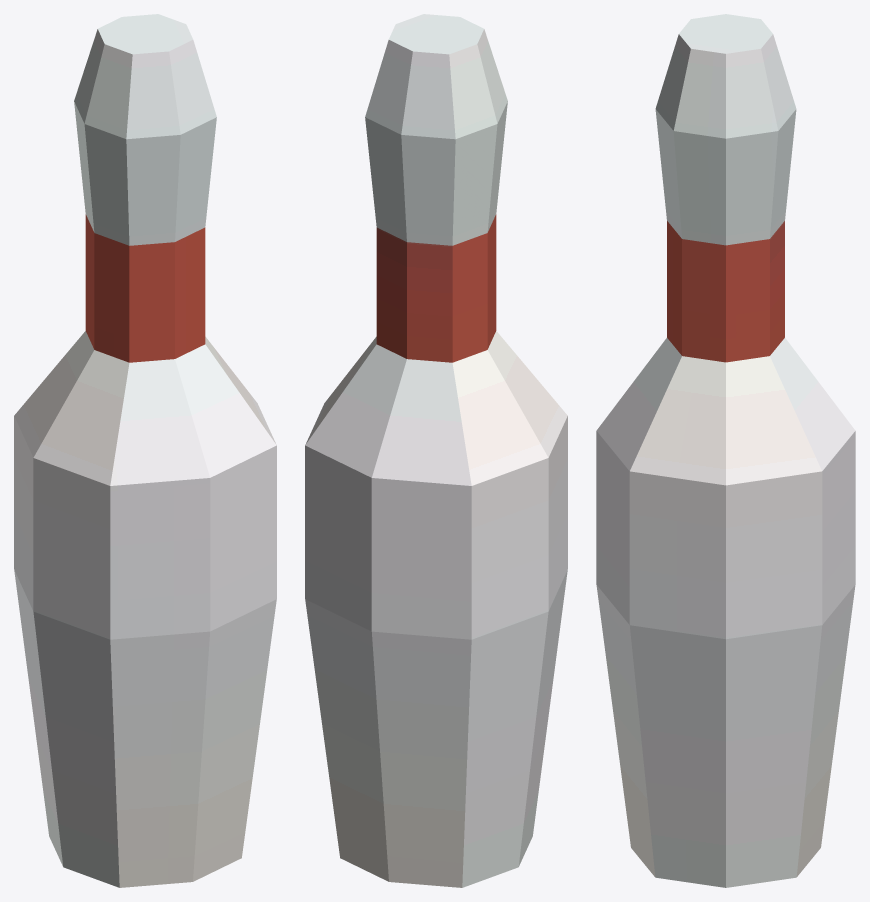
File: 92eI1h_UJpU.glb
The picture shows the model from 3 angles, left to right: view 1: azimuth 30°, elevation 25°; view 2: azimuth 150°, elevation 25°; view 3: azimuth 270°, elevation 25°; orthographic projection.
Visible parts, largest first — view 1: BOWLING_PIN_Cube.034; view 2: BOWLING_PIN_Cube.034; view 3: BOWLING_PIN_Cube.034.
Boxes of the visible parts, left/top/right/bottom form: BOWLING_PIN_Cube.034: left=14, top=14, right=276, bottom=887; BOWLING_PIN_Cube.034: left=305, top=14, right=567, bottom=887; BOWLING_PIN_Cube.034: left=596, top=14, right=855, bottom=887.
Bounding box in the file's own units: 0.2885 × 1 × 0.2885.
1 material, 1 textured.
